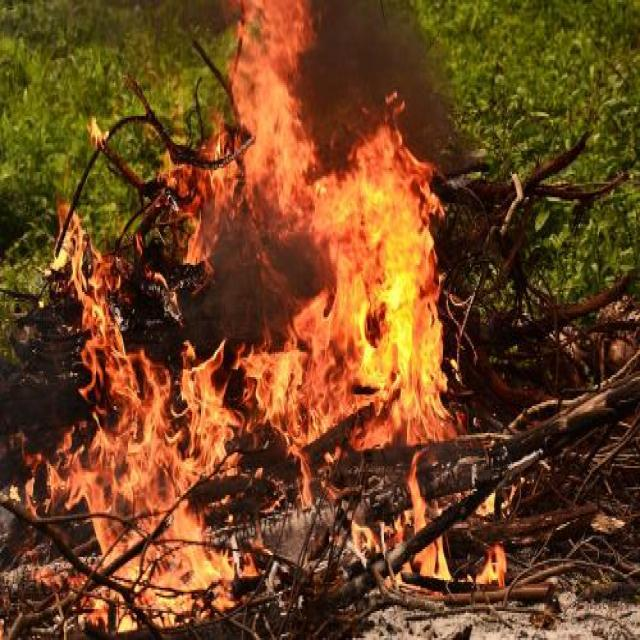Fire: (25, 0, 507, 633)
